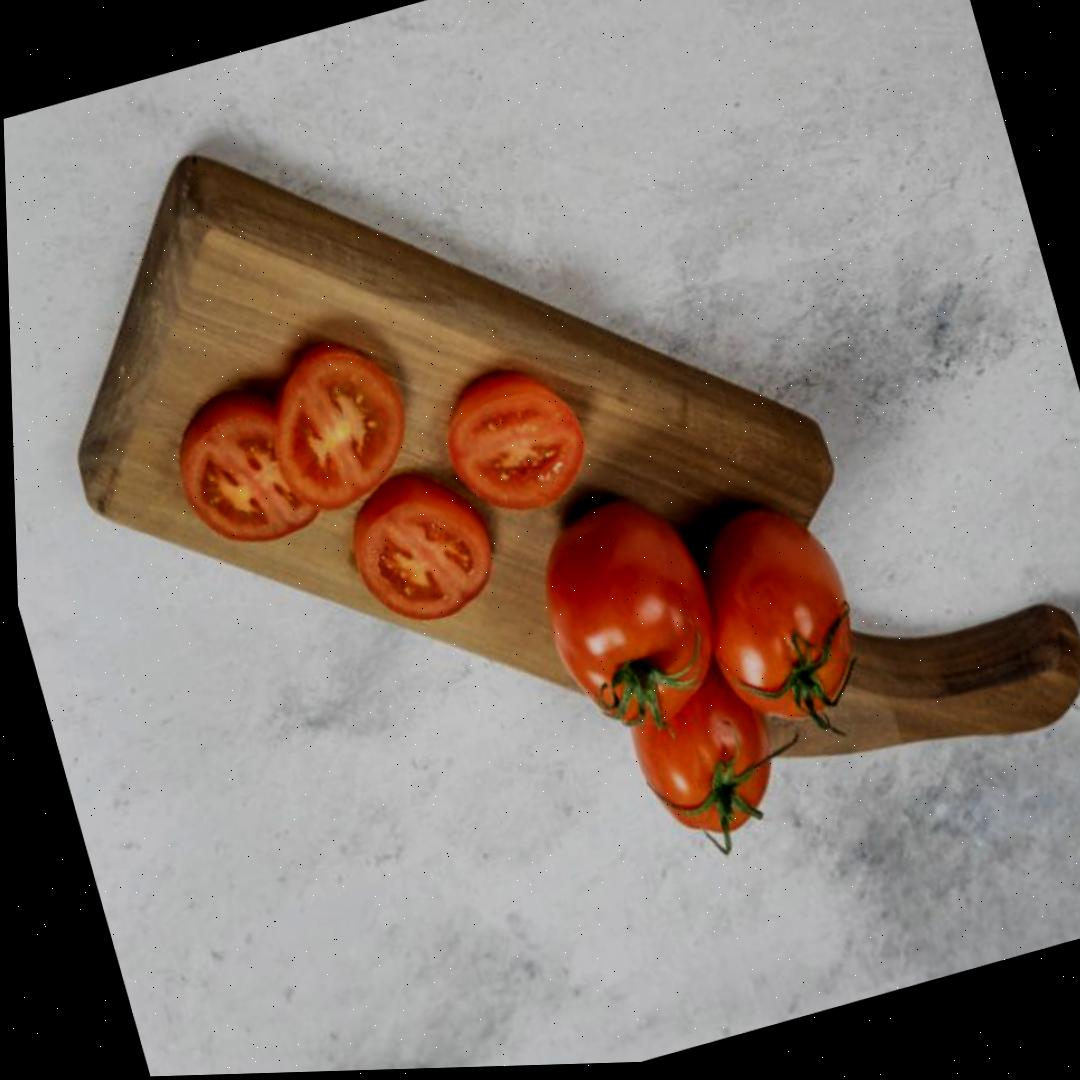matang: (520, 478, 740, 745), (675, 487, 879, 743), (611, 623, 796, 855), (251, 326, 428, 525), (164, 375, 335, 562), (338, 456, 510, 639), (429, 353, 601, 530)
